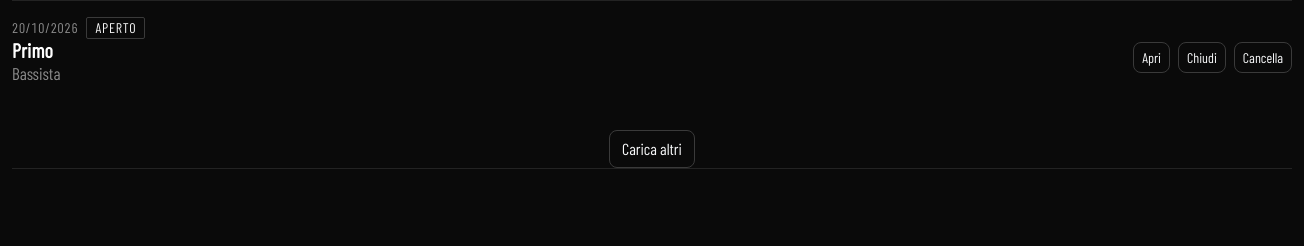
Test: MyCollabTab · elenco › «Carica altri» accoda la pagina successiva
Expected: the element "Primo" is shown, [12,0,1292,114]
Step 1. Click the button "Carica altri" → (652, 149), box [609,130,695,168]
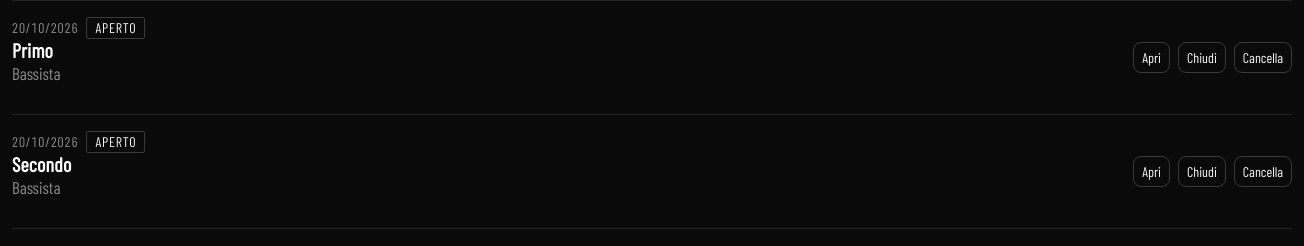
Expected: the element "Primo" is shown, [12,0,1292,114]
Result: the element "Secondo" is shown at [12,114,1292,229]
Result: the button "Carica altri" is gone
